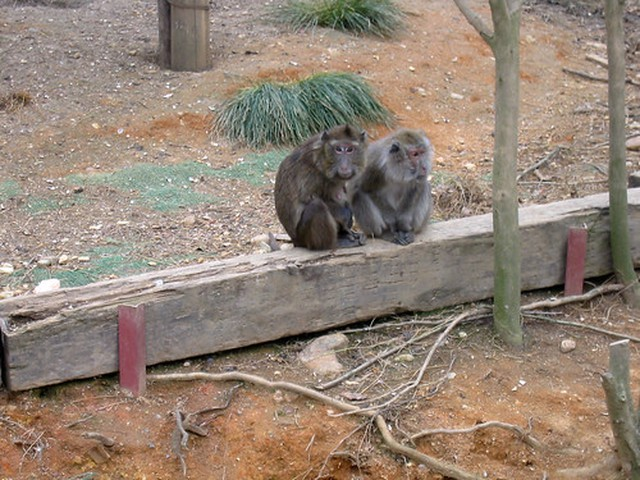Monkey: (273, 124, 442, 246)
